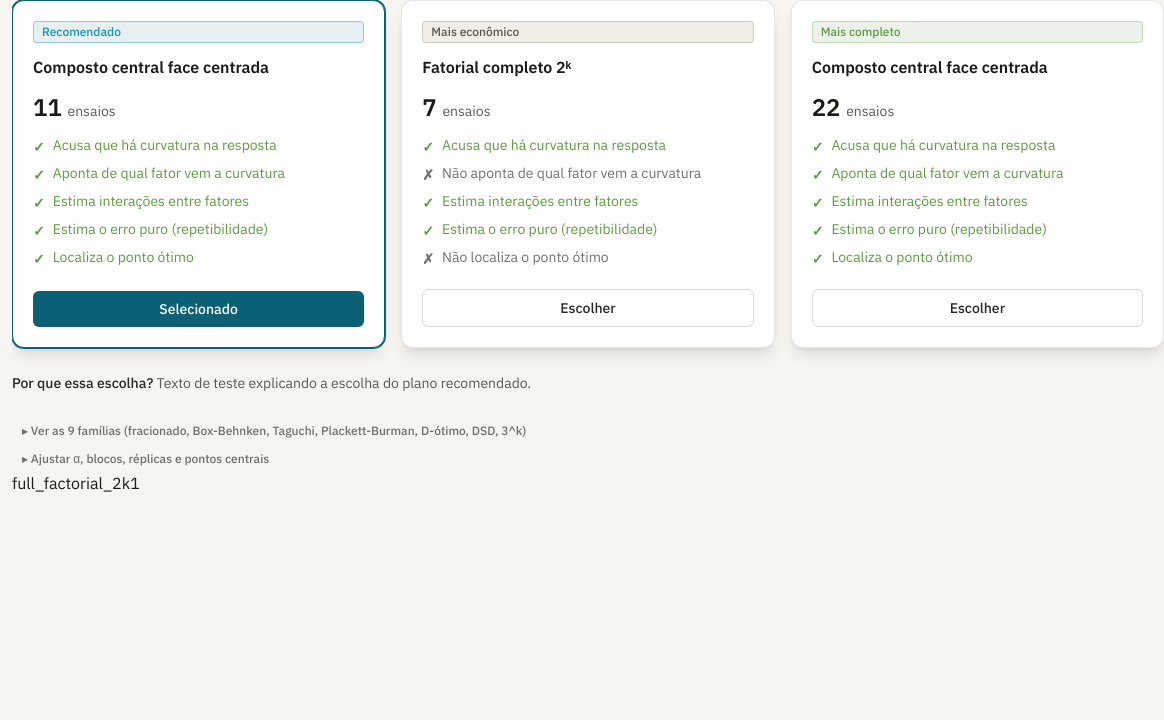
Test: VitrineDePlanos — escolher um cartão › clicar em Escolher no completo aplica o configPatch E replicates:2 (não só um dos dois)
Step 1. Click the button "Escolher" below "22" → coordinates (977, 308), box [812,289,1143,327]
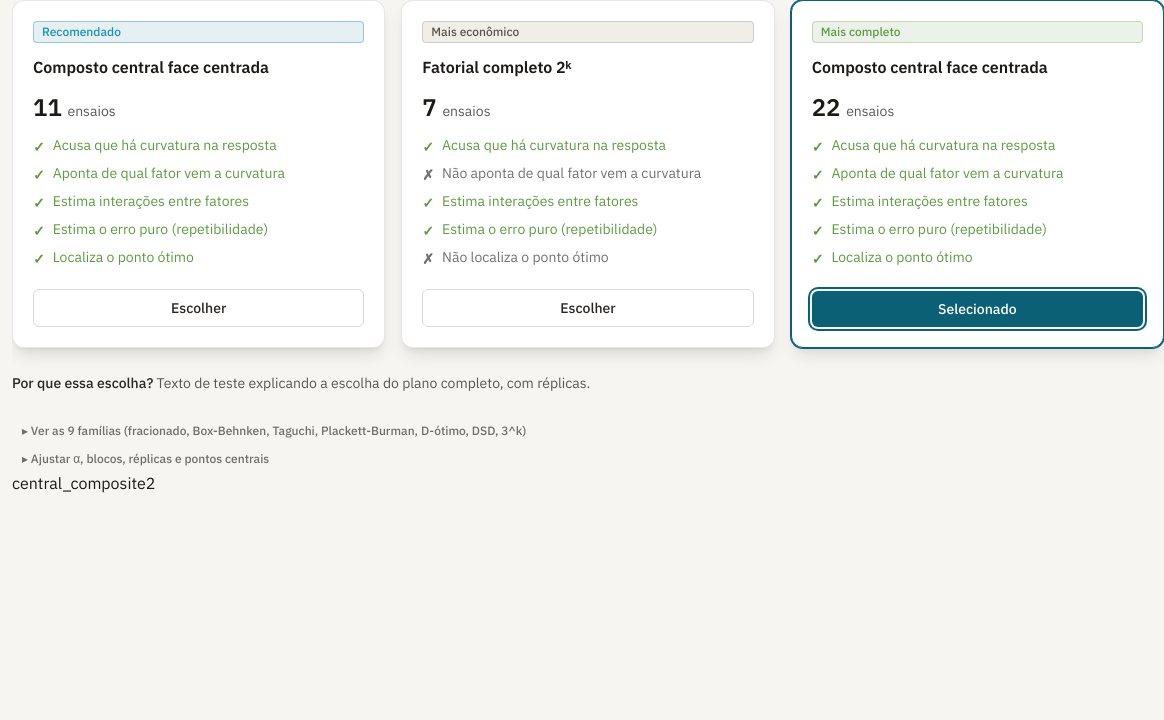
Expected: the text with test id "design-type" reads "central_composite", [12,473,146,493]
Expected: the text with test id "replicates" reads "2", [146,473,155,493]
